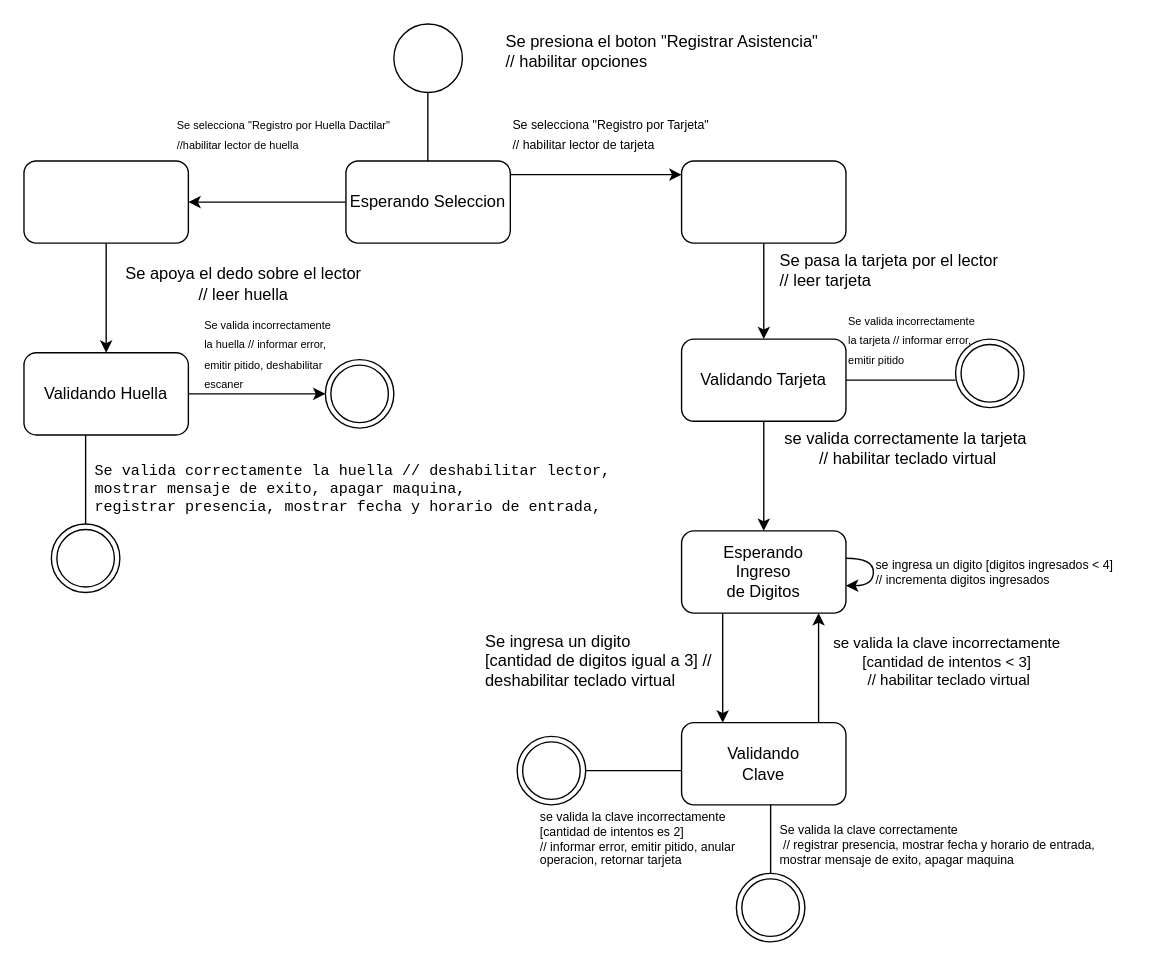
This 1171x966 diagram has some shape labels left out. The shapes that lost their labels are listed below. From the top down, each one's box as (x1, y1, x2, y2) in pixels, then its label:
(23, 160, 188, 243): Esperando Huella
(680, 160, 846, 243): Esperando Pase de Tarjeta
